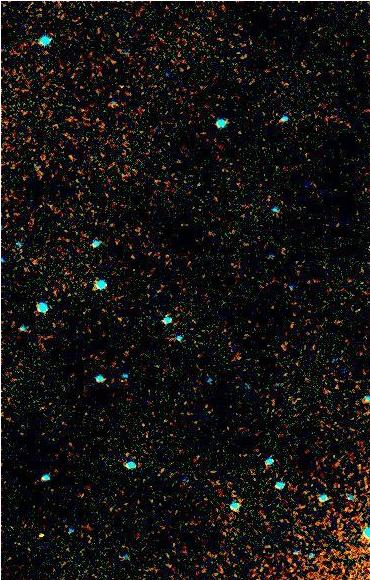star: (27, 519, 57, 549)
